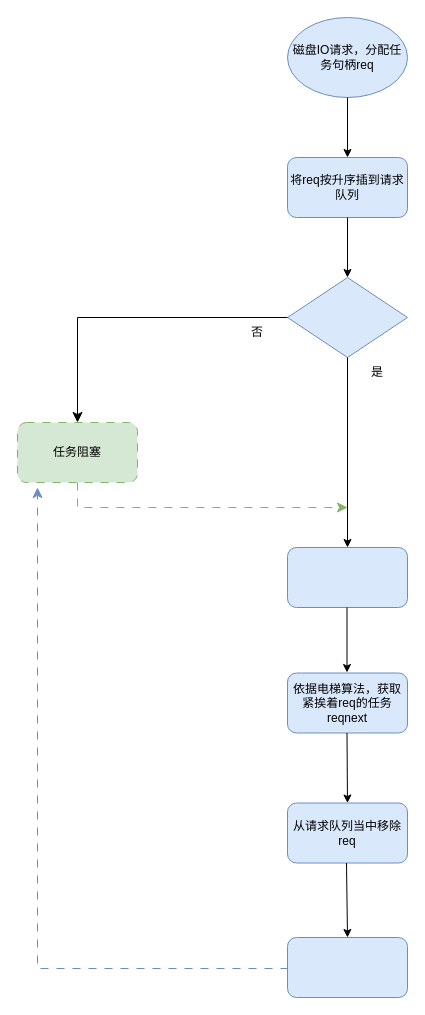
The diagram is 425 pixels wide and 1015 high, and some of its shapes have lost their labels. Here are the shapes that lost their labels. From the top down, the centre of each, then its label:
the point at 347,317: 请求队列原来为空？
the point at 347,577: req执行IO
the point at 347,967: 唤醒reqnext
